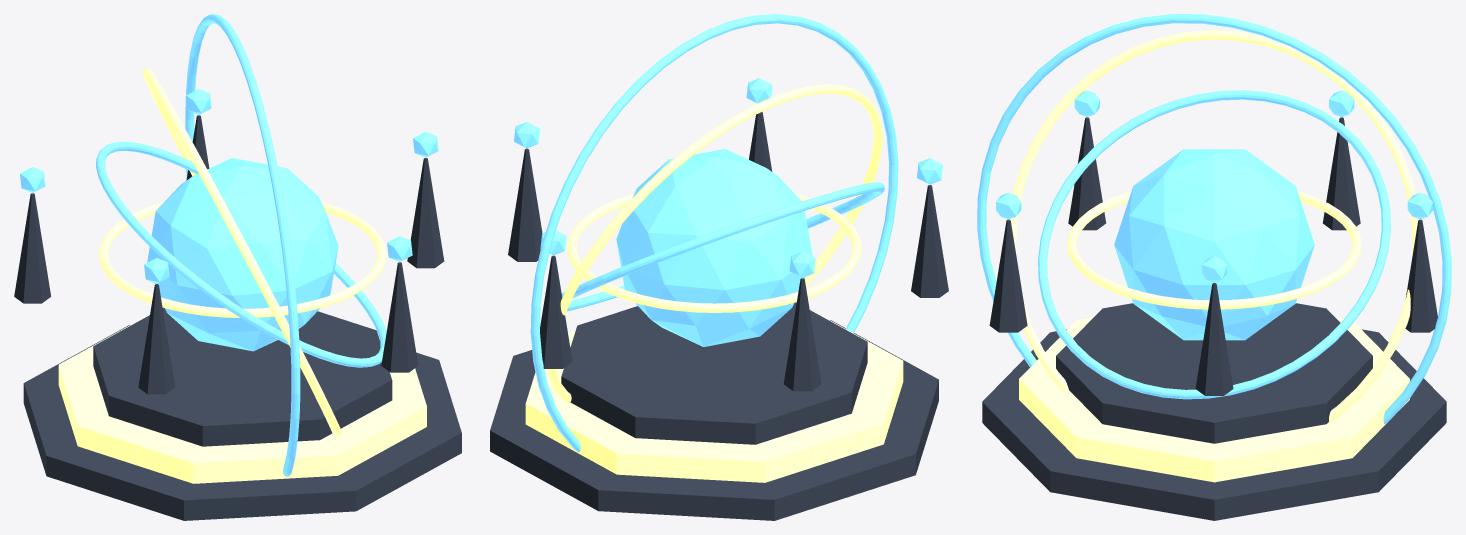
File: gpu-blender-v6.glb
The picture shows the model from 3 angles, left to right: view 1: azimuth 30°, elevation 25°; view 2: azimuth 150°, elevation 25°; view 3: azimuth 270°, elevation 25°; orthographic projection. The views are drawn at different scales.
Parts seen in each view (by area): view 1: Cylinder.002, SovereignCore_mcp-lens, Cylinder, Cylinder.001, Torus.003, Torus.001, Torus.002, Torus, Cone.003, Cone.004, Cone.002, Cone (+5 smaller); view 2: Cylinder.002, SovereignCore_mcp-lens, Cylinder, Cylinder.001, Torus.003, Torus.002, Torus, Torus.001, Cone.002, Cone.003, Cone, Cone.001 (+4 smaller); view 3: SovereignCore_mcp-lens, Cylinder.002, Cylinder, Cylinder.001, Torus.003, Torus.001, Torus.002, Torus, Cone.004, Cone, Cone.001, Cone.002 (+2 smaller).
Boxes of the visible parts, <box> form: Cylinder.002: <box>93,307,392,446</box>; SovereignCore_mcp-lens: <box>147,158,338,351</box>; Cylinder: <box>23,325,461,520</box>; Cylinder.001: <box>58,315,426,483</box>; Torus.003: <box>185,14,300,476</box>; Torus.001: <box>96,141,386,367</box>; Torus.002: <box>142,68,341,435</box>; Torus: <box>99,201,386,317</box>; Cone.003: <box>138,284,175,394</box>; Cone.004: <box>381,262,418,372</box>; Cone.002: <box>14,193,50,303</box>; Cone: <box>407,158,444,268</box>; Cylinder.002: <box>561,302,867,444</box>; SovereignCore_mcp-lens: <box>616,149,812,346</box>; Cylinder: <box>490,320,938,520</box>; Cylinder.001: <box>525,310,903,482</box>; Torus.003: <box>530,14,898,452</box>; Torus.002: <box>547,84,882,403</box>; Torus: <box>567,193,861,312</box>; Torus.001: <box>561,182,884,311</box>; Cone.002: <box>783,278,821,391</box>; Cone.003: <box>911,185,948,297</box>; Cone: <box>508,148,542,261</box>; Cone.001: <box>540,255,572,368</box>; SovereignCore_mcp-lens: <box>1114,149,1314,340</box>; Cylinder.002: <box>1056,303,1372,443</box>; Cylinder: <box>982,329,1446,520</box>; Cylinder.001: <box>1019,317,1409,482</box>; Torus.003: <box>977,14,1451,424</box>; Torus.001: <box>1038,90,1390,399</box>; Torus.002: <box>1008,30,1420,422</box>; Torus: <box>1067,191,1361,309</box>; Cone.004: <box>989,219,1027,332</box>; Cone: <box>1195,283,1233,395</box>; Cone.001: <box>1405,219,1437,332</box>; Cone.002: <box>1322,117,1360,230</box>.
Size of the model in its own units: 4.41 by 4.7 by 4.49.
